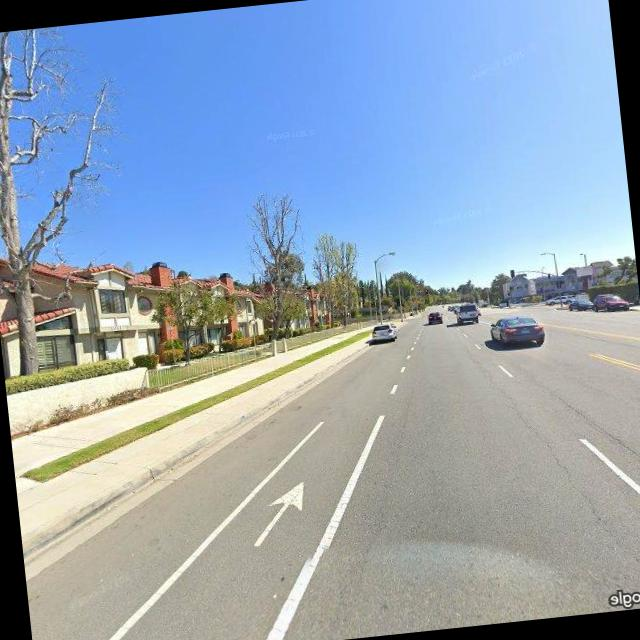pothole: (551, 450, 640, 593), (554, 384, 640, 467)
